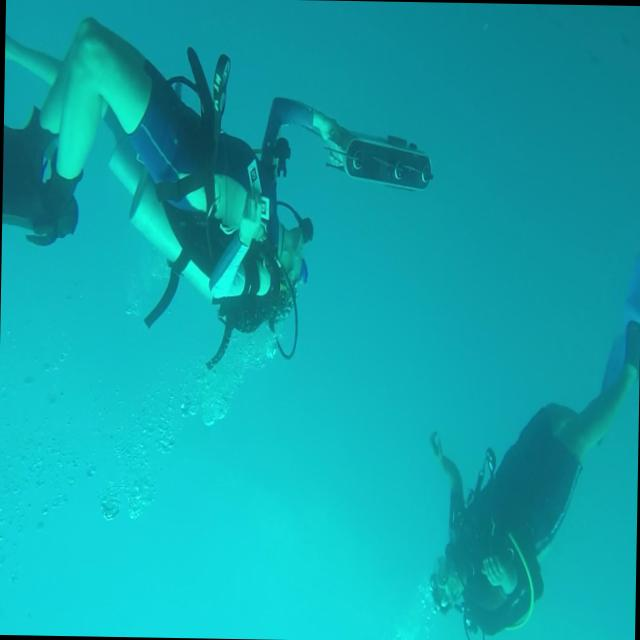human: (0, 15, 435, 373), (425, 313, 640, 640)
